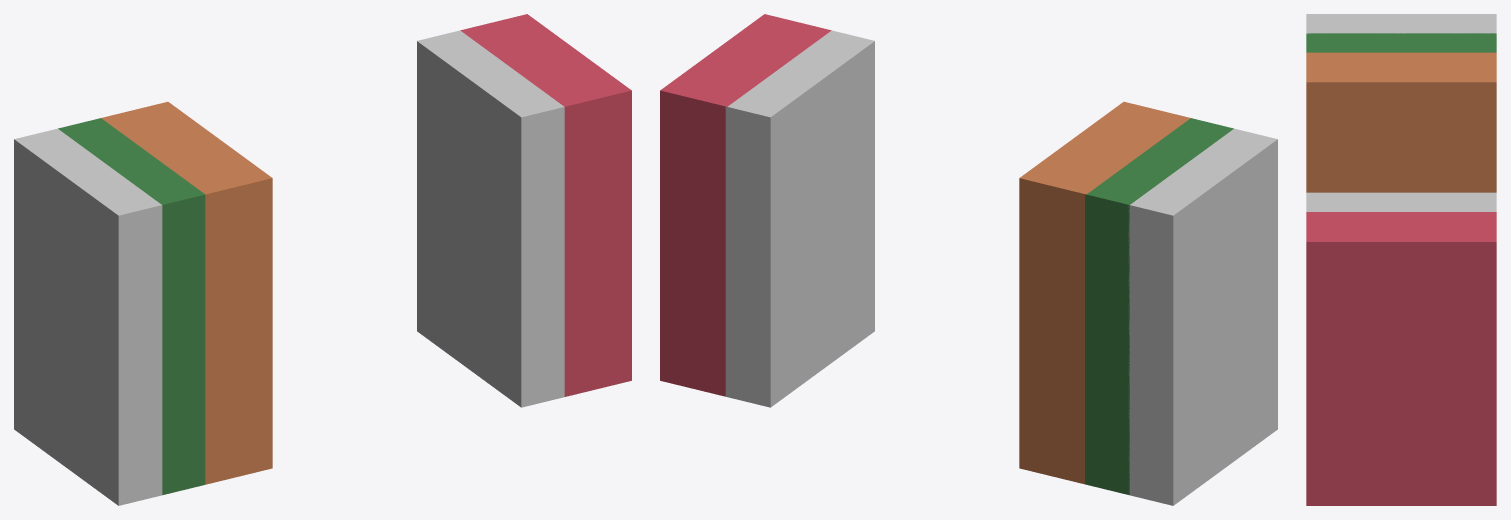
The model's file is Books.fbx.
3 renders of one model, left to right at view 1: azimuth 30°, elevation 25°; view 2: azimuth 150°, elevation 25°; view 3: azimuth 270°, elevation 25°, orthographic. The views are drawn at different scales.
Parts seen in each view (by area): view 1: Books.001, Books; view 2: Books.001, Books; view 3: Books, Books.001.
Part boxes in pixels (left/top/right/bottom): Books.001: left=14, top=101, right=272, bottom=505; Books: left=417, top=14, right=631, bottom=407; Books.001: left=1019, top=101, right=1277, bottom=505; Books: left=660, top=14, right=874, bottom=407; Books: left=1306, top=192, right=1496, bottom=505; Books.001: left=1306, top=14, right=1496, bottom=192.
Bounding box in the file's own units: 0.7908 × 0.4274 × 0.2789.
